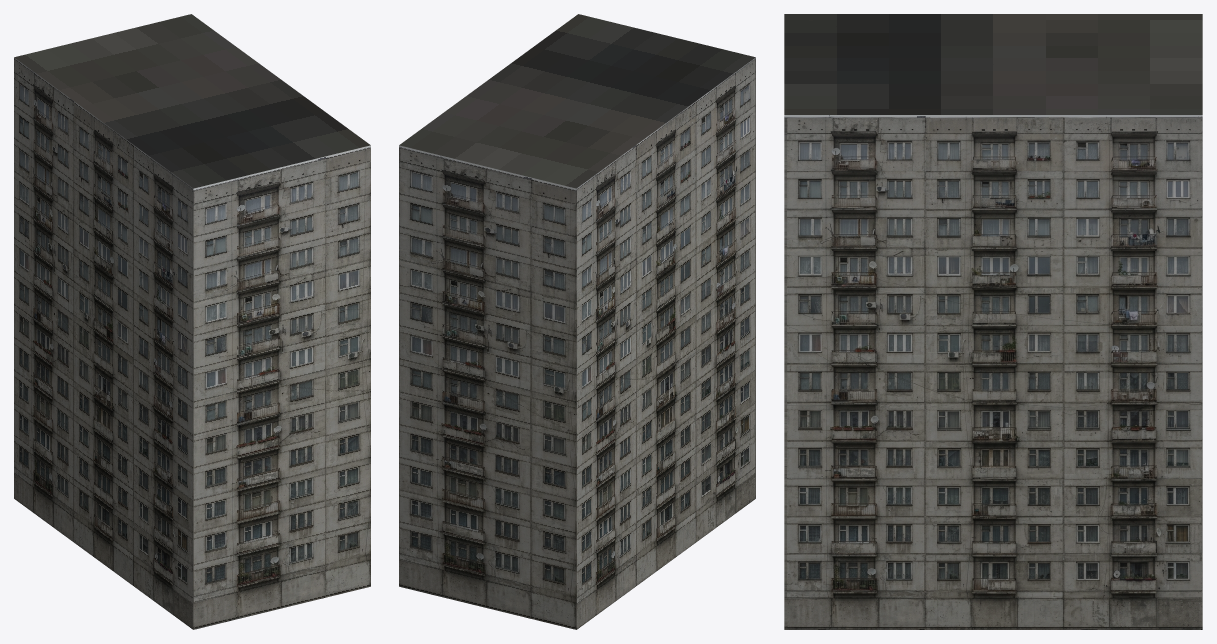
File: building_06.gltf
The picture shows the model from 3 angles, left to right: view 1: azimuth 30°, elevation 25°; view 2: azimuth 150°, elevation 25°; view 3: azimuth 270°, elevation 25°; orthographic projection. The views are drawn at different scales.
Parts seen in each view (by area): view 1: mesh; view 2: mesh; view 3: mesh.
Boxes of the visible parts, x1,y1,x2,y2 form: mesh: (14,14,370,629); mesh: (399,14,755,629); mesh: (784,14,1202,629).
Bounding box in the file's own units: 1 × 2.38 × 1.75.
Materials: 1 (1 with a texture image).
